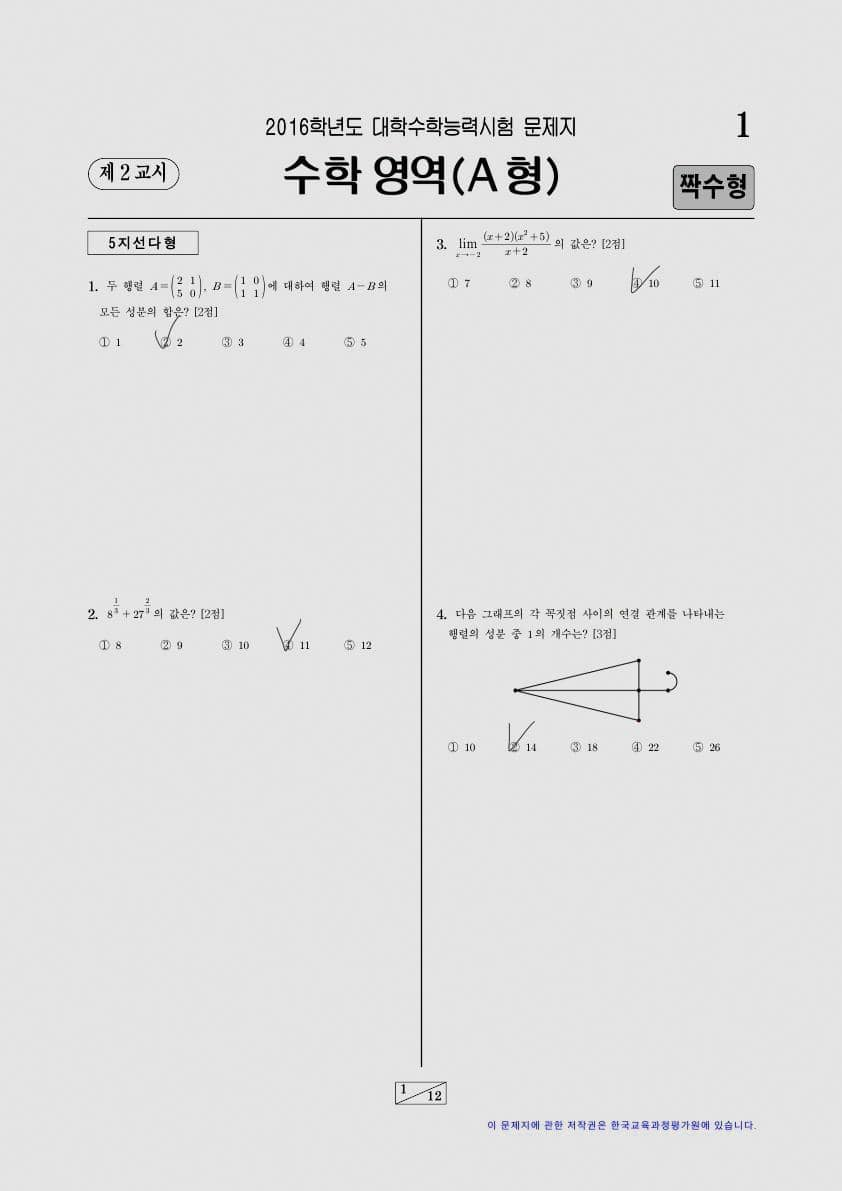question: (425, 601, 744, 773), (76, 268, 395, 363), (69, 586, 383, 673), (425, 222, 731, 308)
